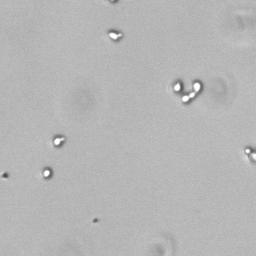budding: (181, 80, 203, 104), (244, 146, 256, 164), (107, 31, 123, 42), (53, 136, 65, 148), (172, 79, 183, 92)
individual: (41, 167, 51, 179)
